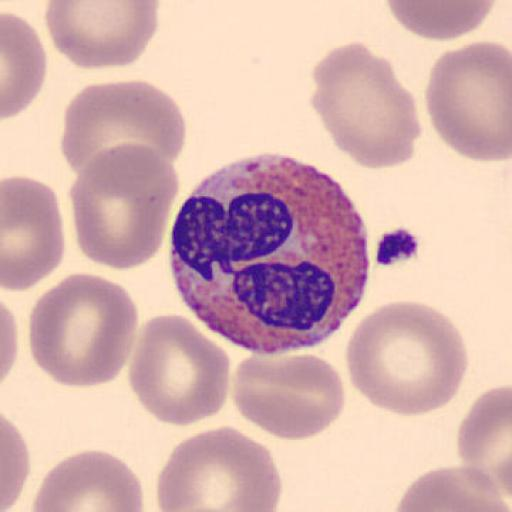Platelet: (371, 222, 423, 269)
RBC: (344, 298, 470, 418), (308, 40, 422, 172), (68, 142, 178, 271), (26, 270, 140, 390), (60, 78, 188, 184), (126, 311, 230, 428), (154, 424, 282, 512), (424, 39, 512, 164), (232, 350, 347, 441), (43, 0, 160, 71), (2, 174, 66, 293), (32, 447, 144, 512), (456, 383, 512, 499), (391, 464, 512, 512), (2, 11, 48, 120), (383, 0, 498, 42), (0, 412, 31, 512), (1, 300, 19, 383)
WBC: (167, 155, 371, 356)
